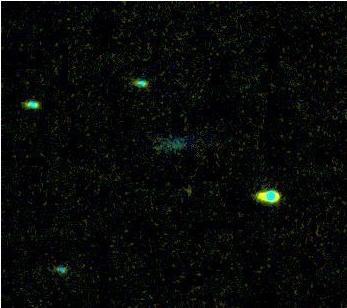star: (174, 174, 204, 204)
